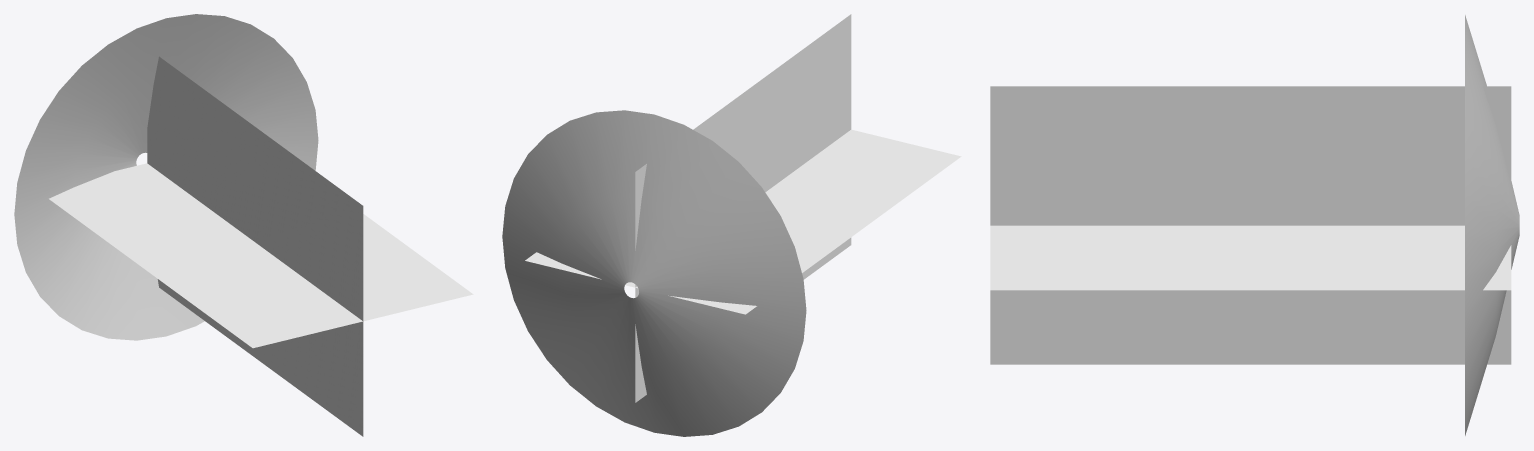
The model's file is Muzzle.fbx.
3 views of the same model, side by side, from view 1: azimuth 30°, elevation 25°; view 2: azimuth 150°, elevation 25°; view 3: azimuth 270°, elevation 25° (orthographic). The views are drawn at different scales.
Visible parts, largest first — view 1: Plane, MuzzleCore.001; view 2: MuzzleCore.001, Plane; view 3: Plane, MuzzleCore.001.
Boxes of the visible parts, box(x1,y1,x2,y2) form: Plane: box(49, 56, 473, 436); MuzzleCore.001: box(14, 14, 318, 340); MuzzleCore.001: box(502, 110, 806, 436); Plane: box(525, 14, 961, 402); Plane: box(990, 86, 1511, 364); MuzzleCore.001: box(1465, 15, 1519, 435).
Bounding box in the file's own units: 275 × 275 × 344.
